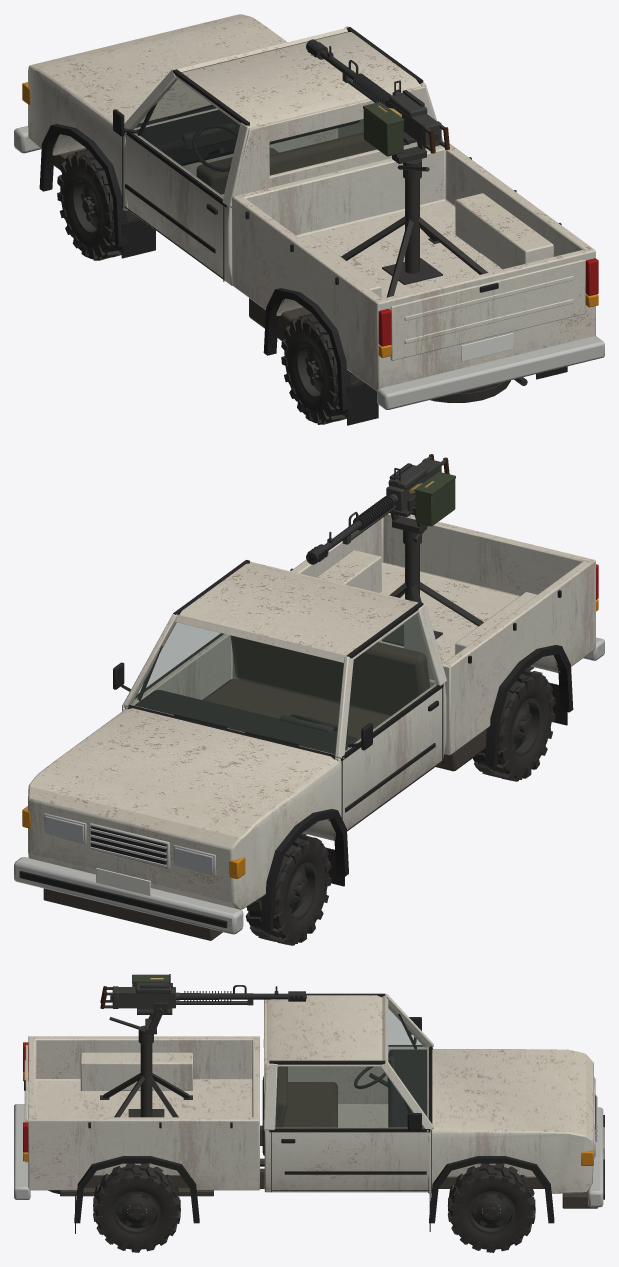
Rendered from hilux_dshk.glb.
3 renders of one model, top to bottom at view 1: azimuth 30°, elevation 25°; view 2: azimuth 150°, elevation 25°; view 3: azimuth 270°, elevation 25°, orthographic. The views are drawn at different scales.
Parts seen in each view (by area): view 1: body, glass, gun, wheel_rl, wheel_fl, turret; view 2: body, glass, wheel_fl, wheel_rl, gun, turret; view 3: body, glass, wheel_rr, wheel_fr, gun, turret.
Part boxes in pixels (box(x1,y1,x2,y2)): body: box(14, 14, 604, 425); glass: box(134, 79, 376, 197); gun: box(306, 39, 449, 156); wheel_rl: box(281, 313, 364, 424); wheel_fl: box(57, 149, 140, 260); turret: box(392, 142, 429, 180); body: box(14, 513, 604, 940); glass: box(131, 614, 435, 754); wheel_fl: box(245, 834, 331, 945); wheel_rl: box(473, 670, 555, 781); gun: box(306, 454, 455, 564); turret: box(391, 503, 427, 545); body: box(14, 993, 604, 1233); glass: box(275, 1004, 427, 1127); wheel_rr: box(93, 1163, 180, 1252); wheel_fr: box(447, 1163, 535, 1252); gun: box(100, 974, 306, 1014); turret: box(109, 1008, 163, 1044).
Size of the model in its own units: 1.95 by 2.2 by 5.
17 materials, 1 textured.
